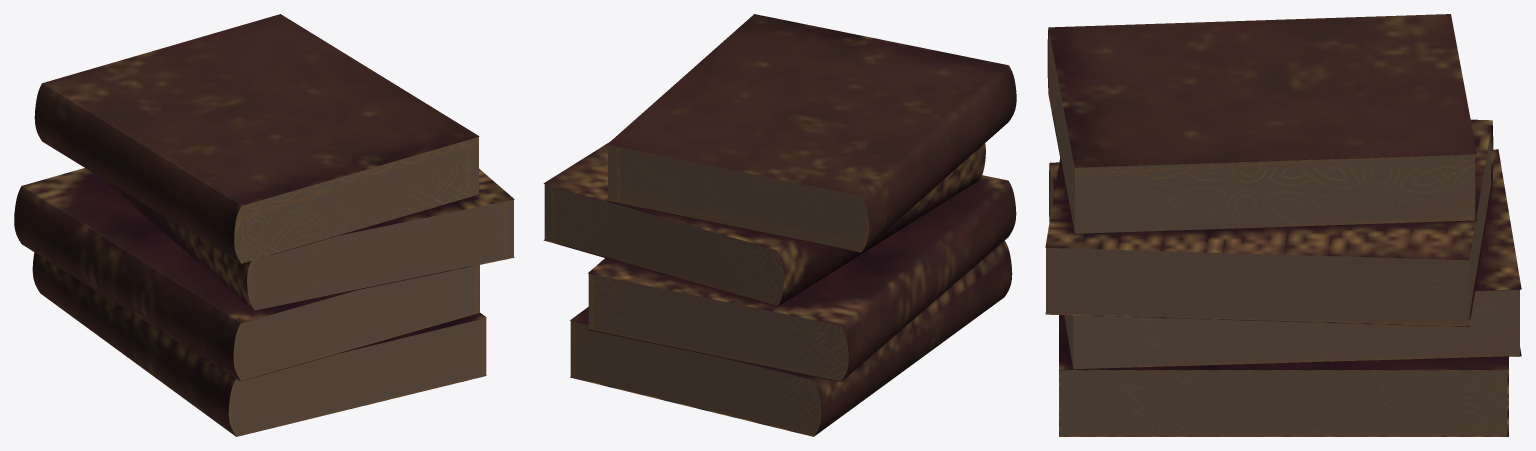
Rendered from SM_BookPile16.fbx.
3 renders of one model, left to right at view 1: azimuth 30°, elevation 25°; view 2: azimuth 150°, elevation 25°; view 3: azimuth 270°, elevation 25°, orthographic. The views are drawn at different scales.
Parts seen in each view (by area): view 1: SM_BookPile16_LOD0; view 2: SM_BookPile16_LOD0; view 3: SM_BookPile16_LOD0.
Part boxes in pixels (x1,y1,x2,y2): SM_BookPile16_LOD0: [14, 14, 514, 436]; SM_BookPile16_LOD0: [543, 14, 1016, 436]; SM_BookPile16_LOD0: [1045, 14, 1521, 436].
Size of the model in its own units: 42.5 by 46.82 by 29.21.
Materials: 1 (1 with a texture image).
